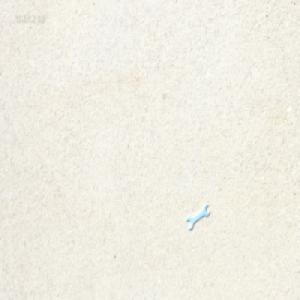Wrench: (185, 199, 210, 226)
